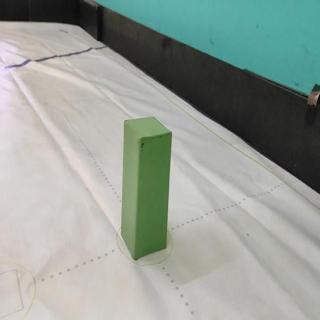greenbox: (121, 113, 173, 262)
